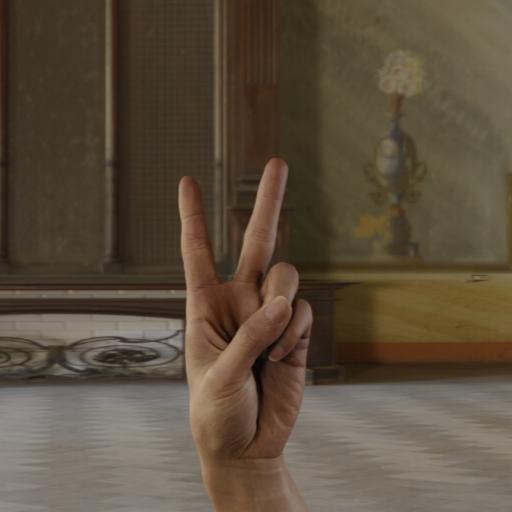V: (168, 146, 322, 478)
